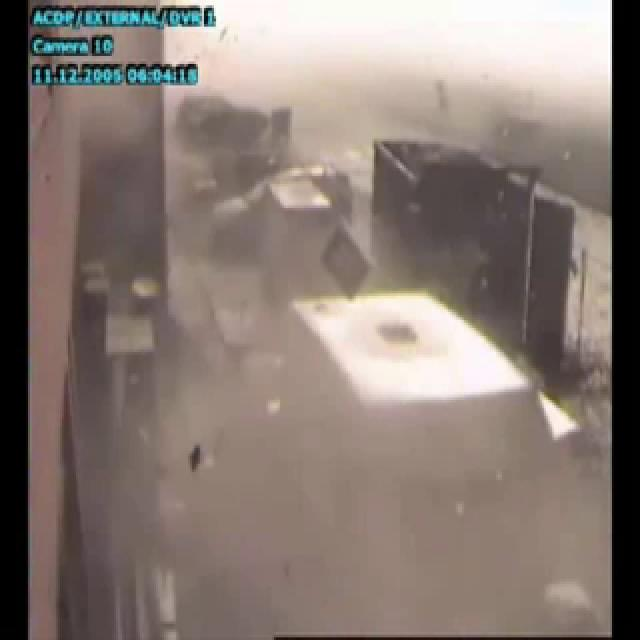explosion: (261, 0, 611, 407)
